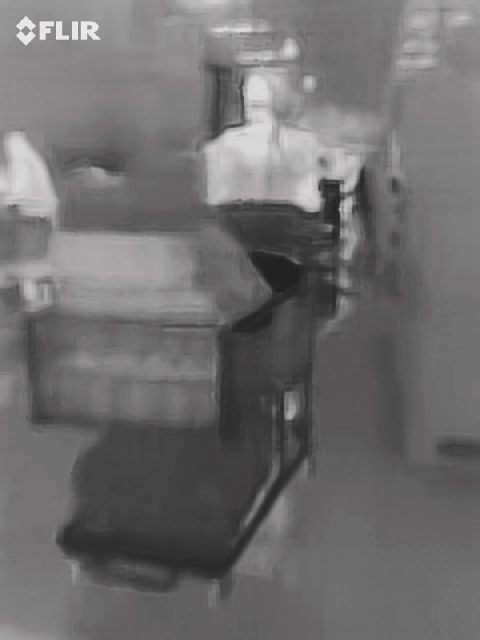head: (241, 67, 294, 127)
